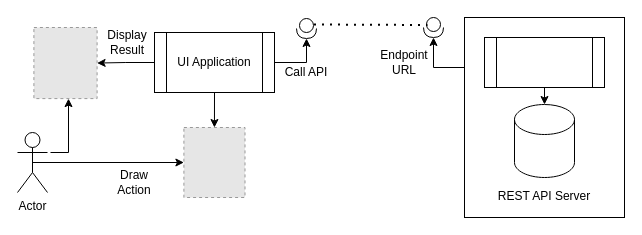
This 642x235 diagram has some shape labels left out. Grey dashed boxes stand in for pictures. The centre of each missing label's shape, as x and y in pixels:
/predict API Method: (x=544, y=62)
Classifier Model: (x=544, y=141)
